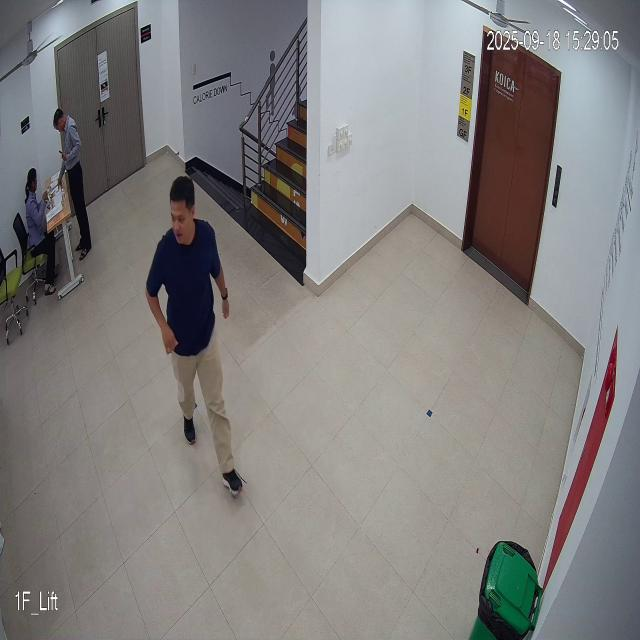face: (167, 177, 200, 248)
